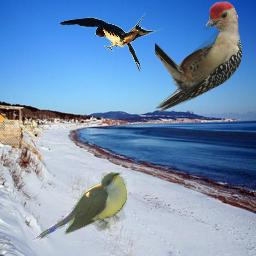Cuckoo: (31, 172, 127, 241)
Swallow: (57, 12, 172, 72)
Woodpecker: (155, 1, 242, 116)
